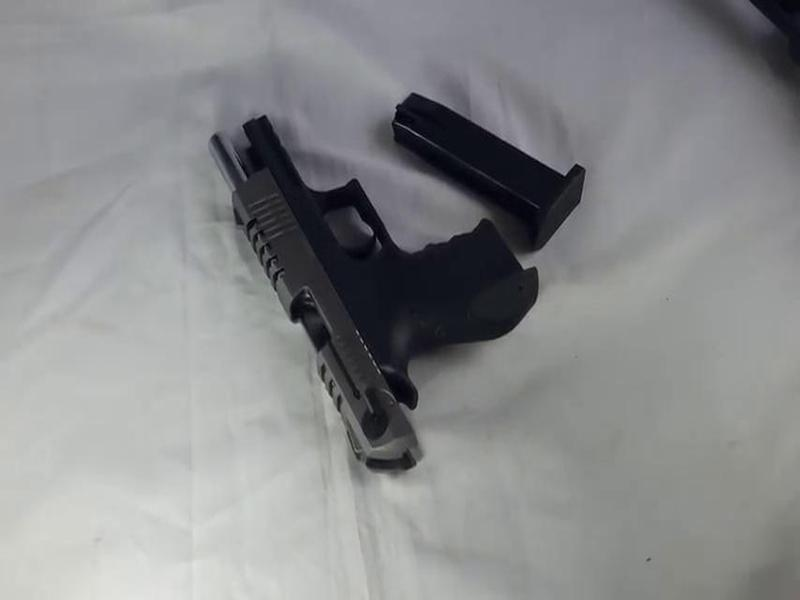Pistola: (192, 87, 558, 488)
